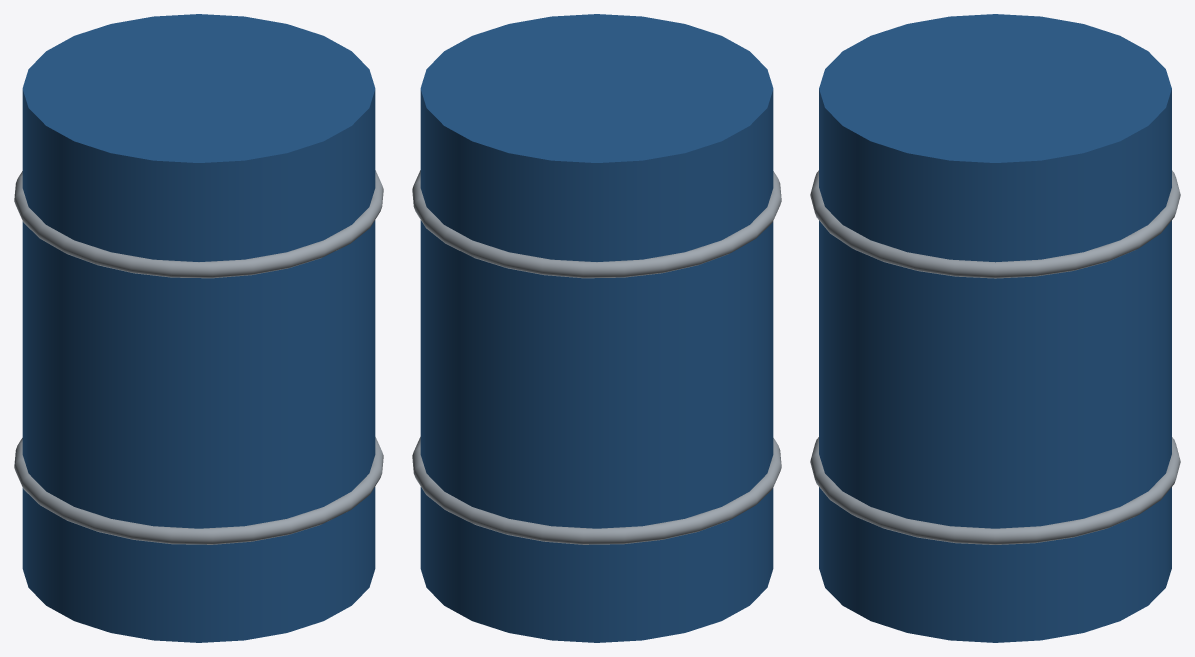
File: barrel.glb
The picture shows the model from 3 angles, left to right: view 1: azimuth 30°, elevation 25°; view 2: azimuth 150°, elevation 25°; view 3: azimuth 270°, elevation 25°; orthographic projection.
Parts seen in each view (by area): view 1: barrel; view 2: barrel; view 3: barrel.
Boxes of the visible parts, x1,y1,x2,y2 form: barrel: (14,14,383,642); barrel: (412,14,781,642); barrel: (810,14,1180,642).
Bounding box in the file's own units: 0.63 × 0.9 × 0.63.
